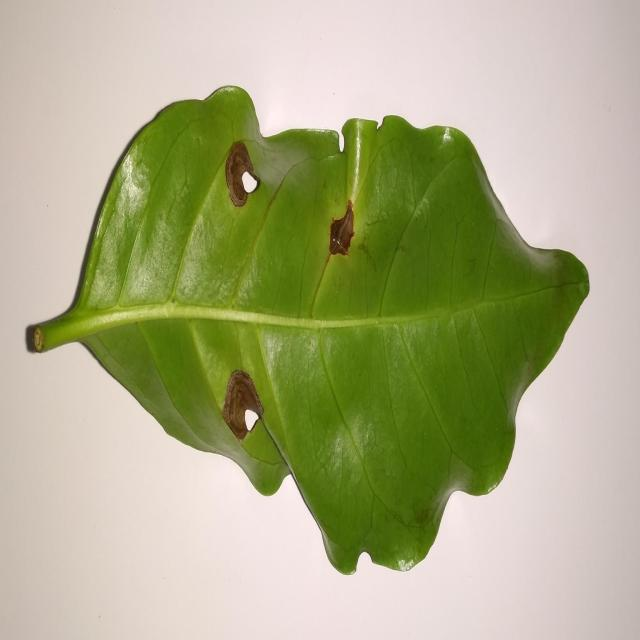Enfermedad-Antracnosis: (23, 86, 591, 578)
